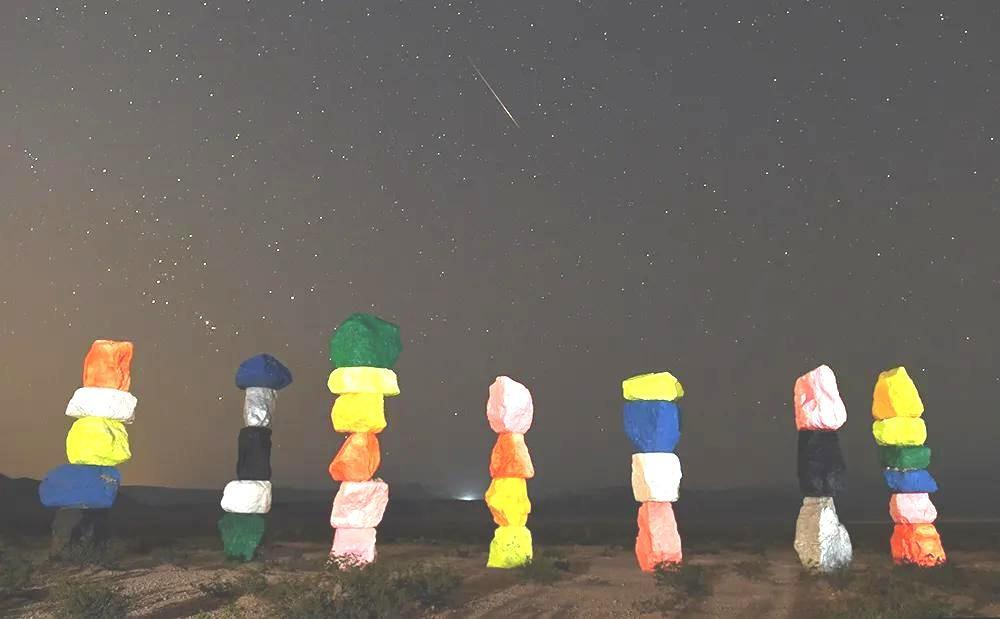meteorite: (468, 48, 535, 143)
